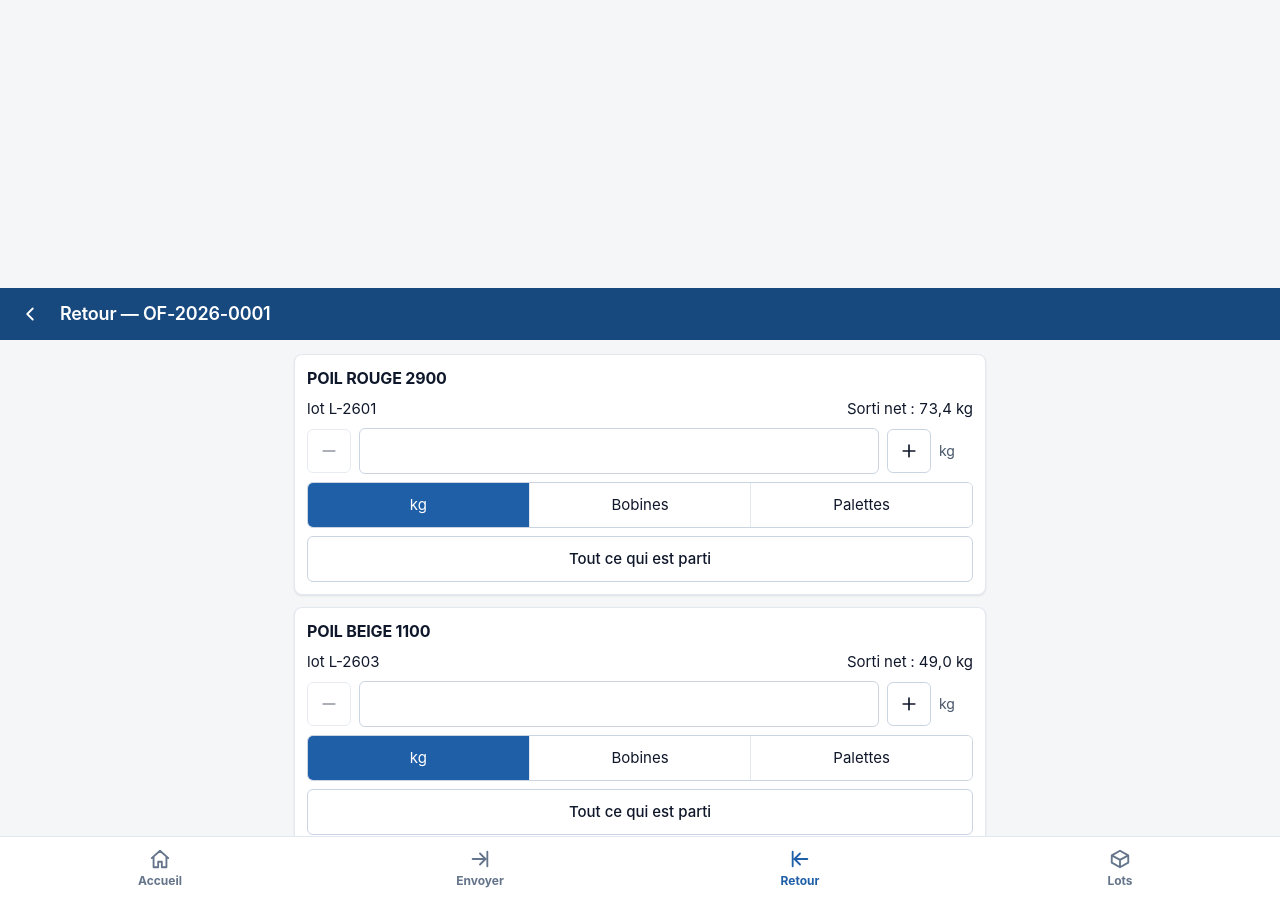
it: Retour des machines › plus que le sorti net : refusé d’avance, la raison nomme le lot
(page scrolled)
Expected: the heading "Retour — OF-2026-0001" is shown, [60,301,270,327]
In the field named "Revient du lot L-2601": (619, 451) [359,428,879,474], type "80"
(page scrolled)
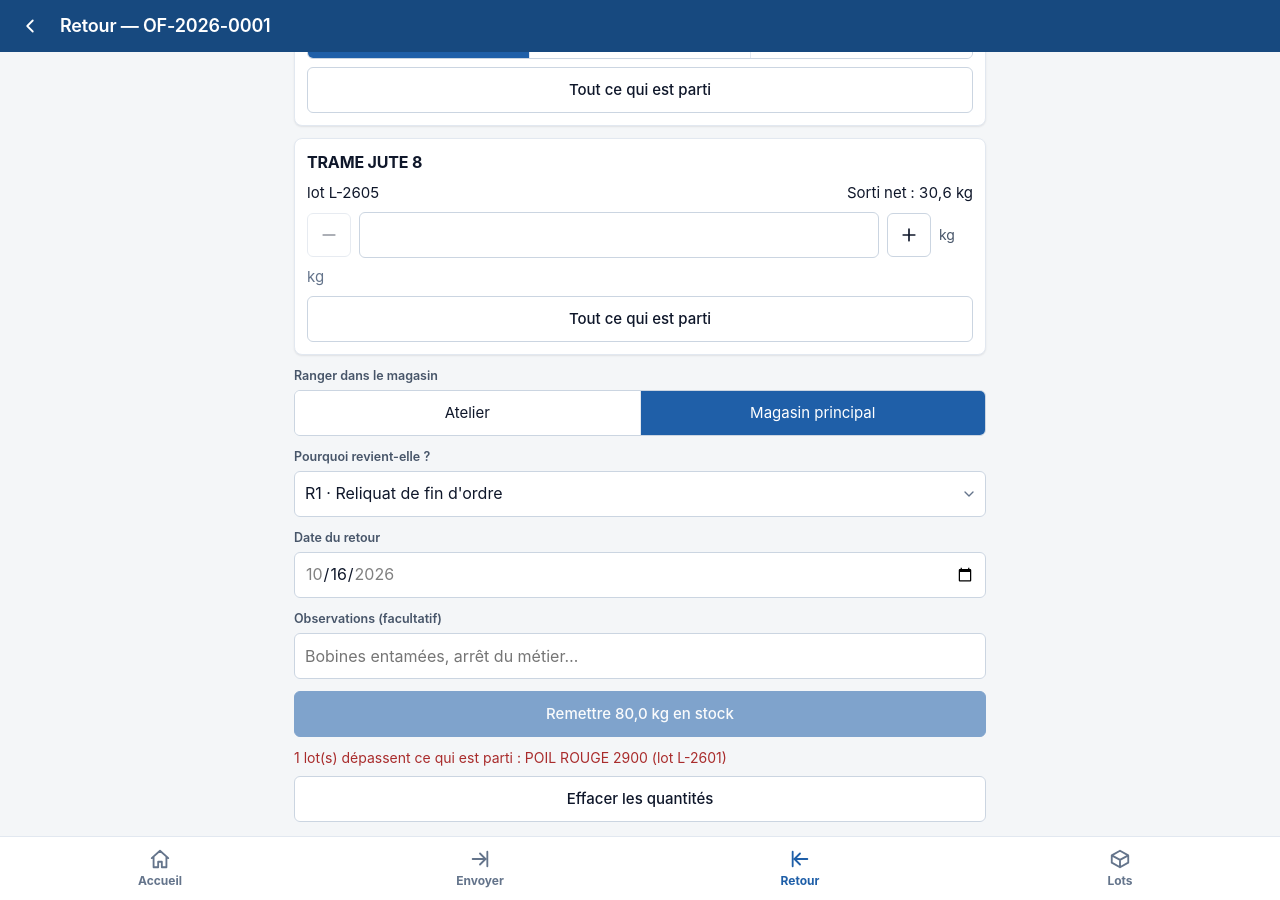
Now the text "1 lot(s) dépassent ce qui est parti : POIL ROUGE 2900 (lot L-2601)" is shown, box [294,749,727,766]
